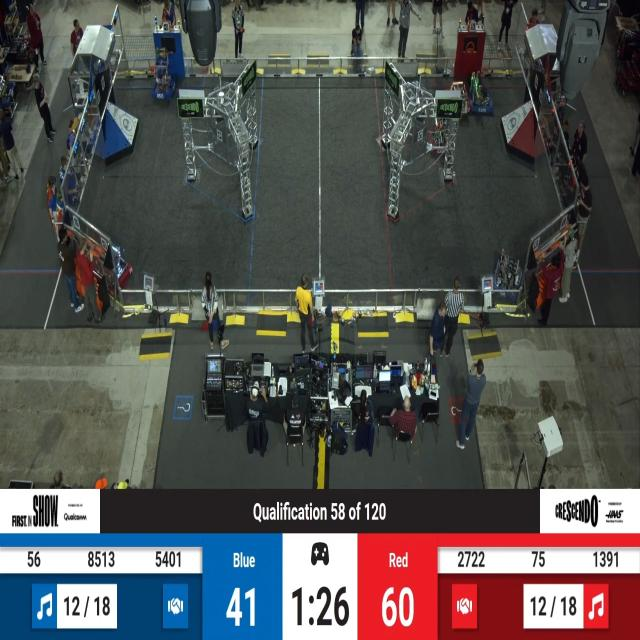Robot: (488, 242, 526, 305), (102, 235, 136, 292), (152, 47, 179, 105), (447, 74, 475, 128), (428, 98, 452, 158), (469, 72, 493, 117)
